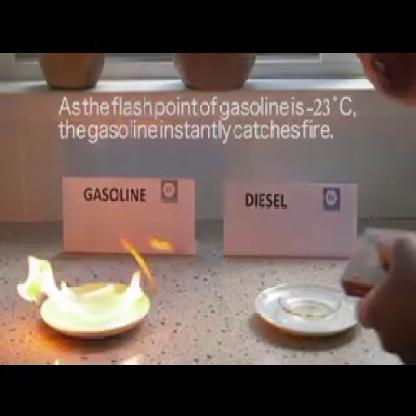fire: (19, 247, 147, 332)
